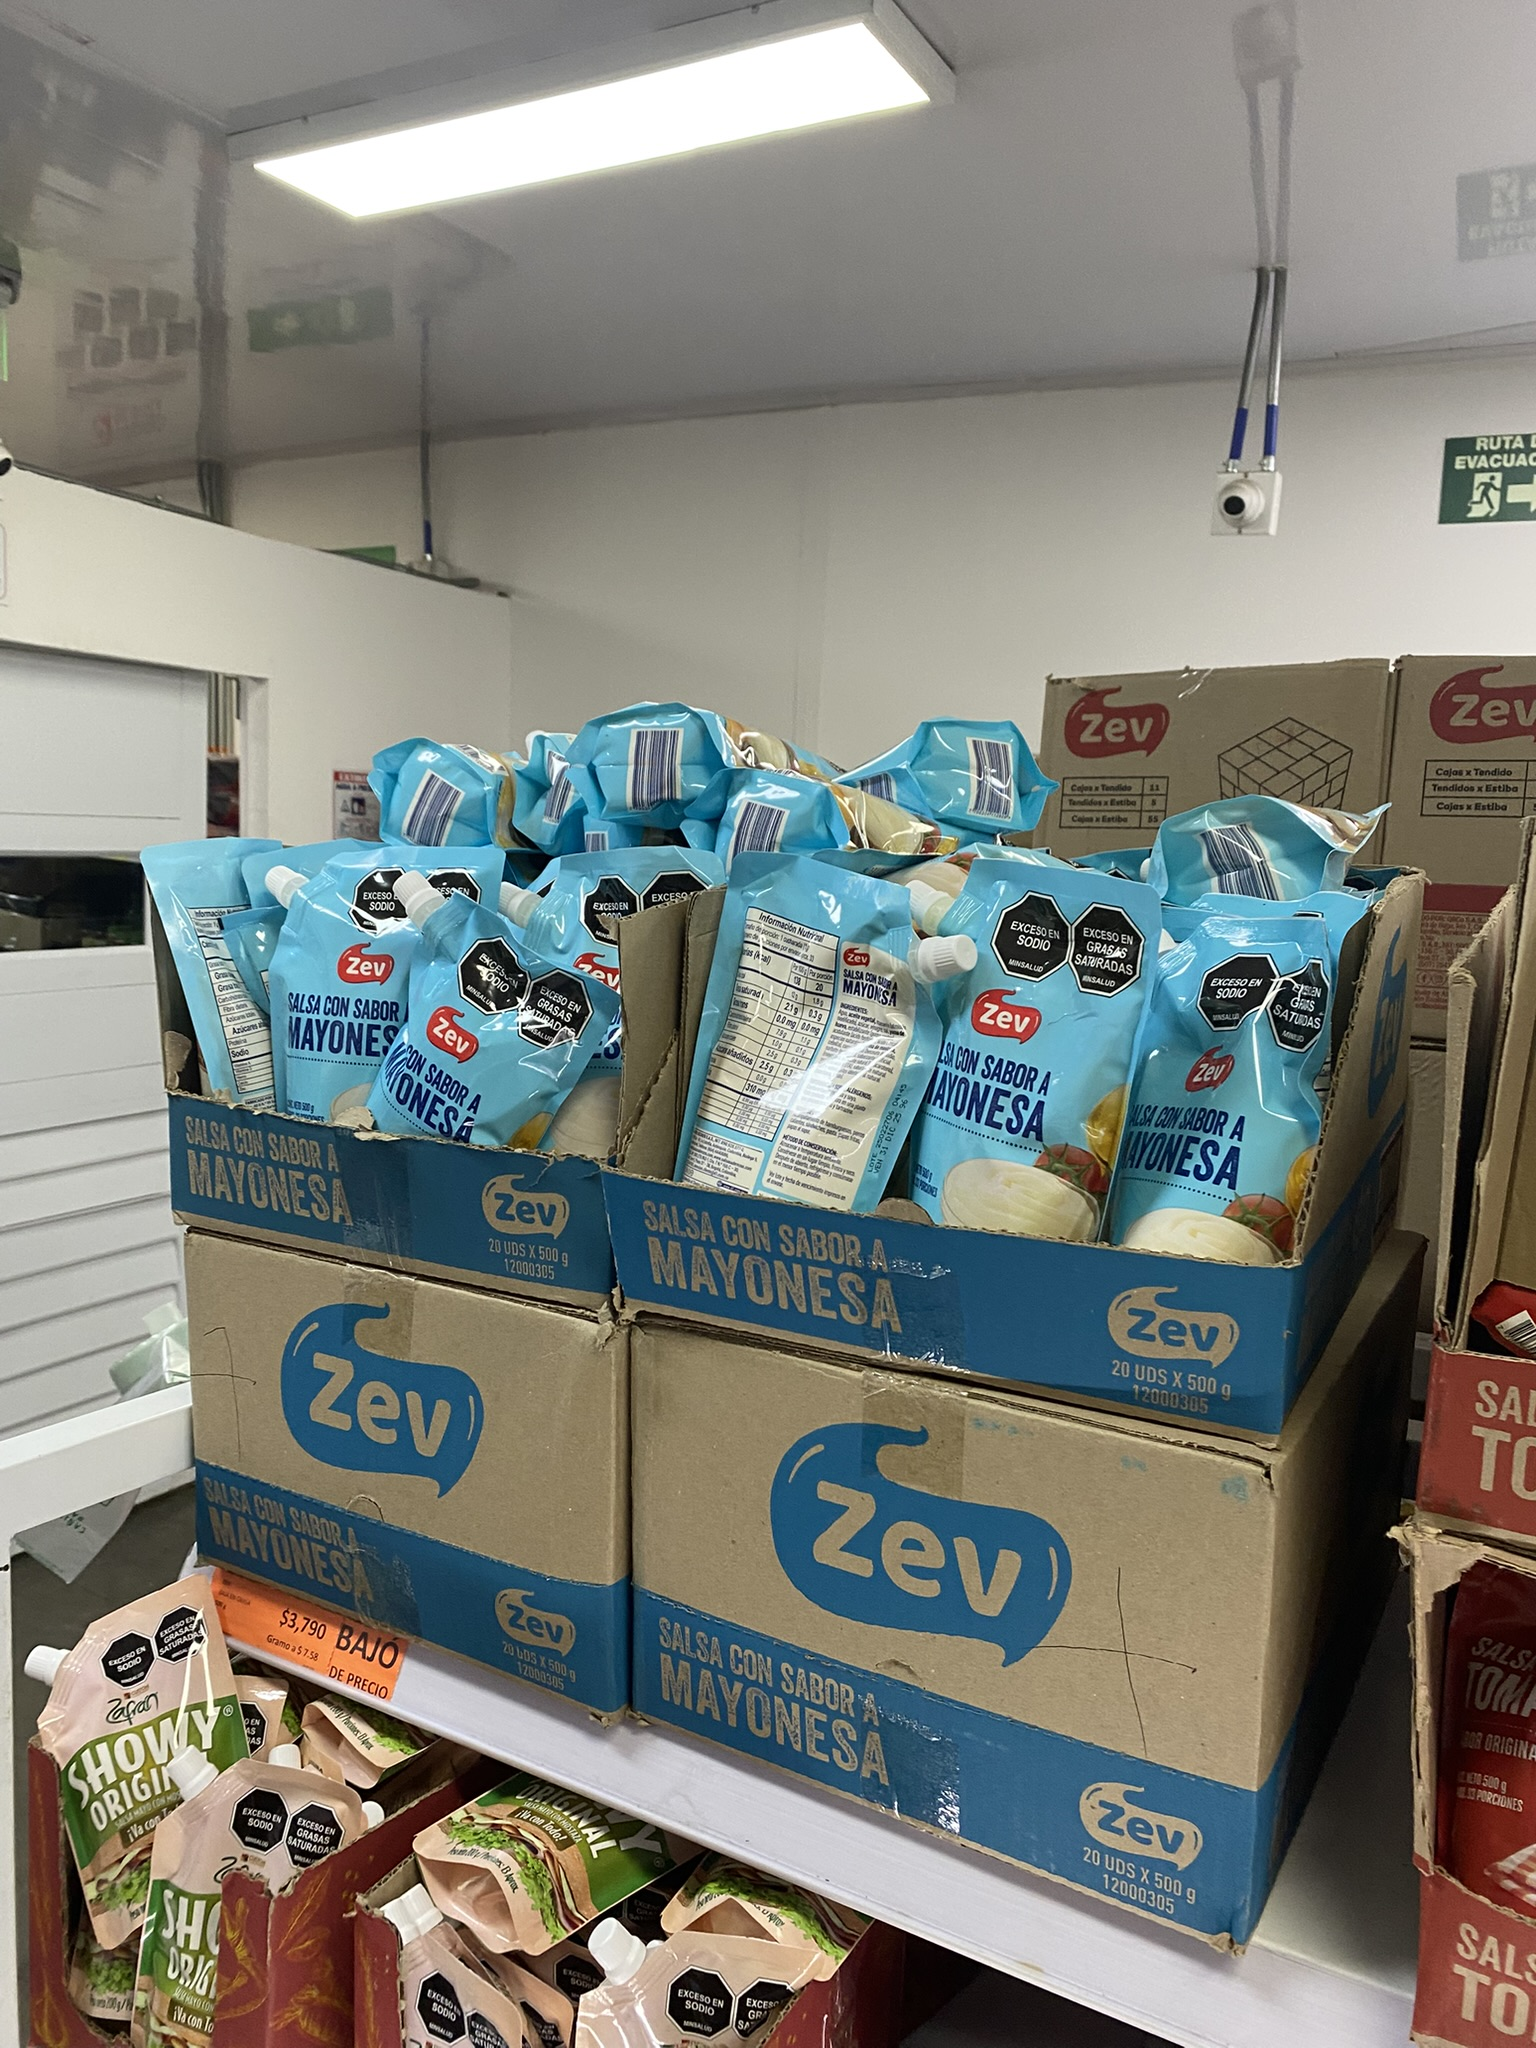Mayonesa: (673, 832, 962, 1261), (892, 872, 1181, 1253), (1110, 910, 1373, 1272), (358, 869, 641, 1124), (265, 853, 432, 1166)
